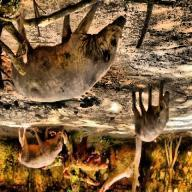boar: (5, 0, 130, 123), (12, 117, 72, 177), (128, 81, 174, 148)
